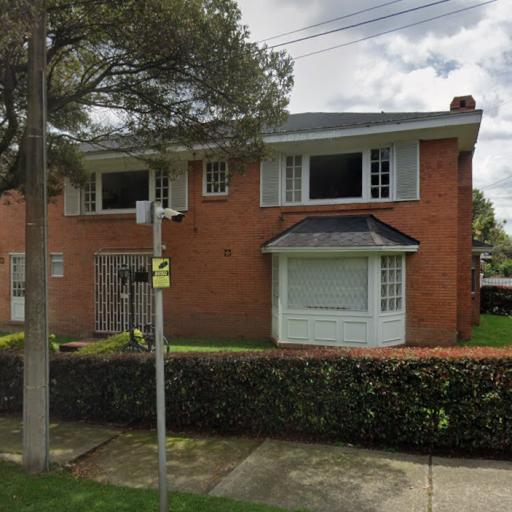Casa: (65, 98, 489, 348)
postes: (19, 0, 54, 472)
